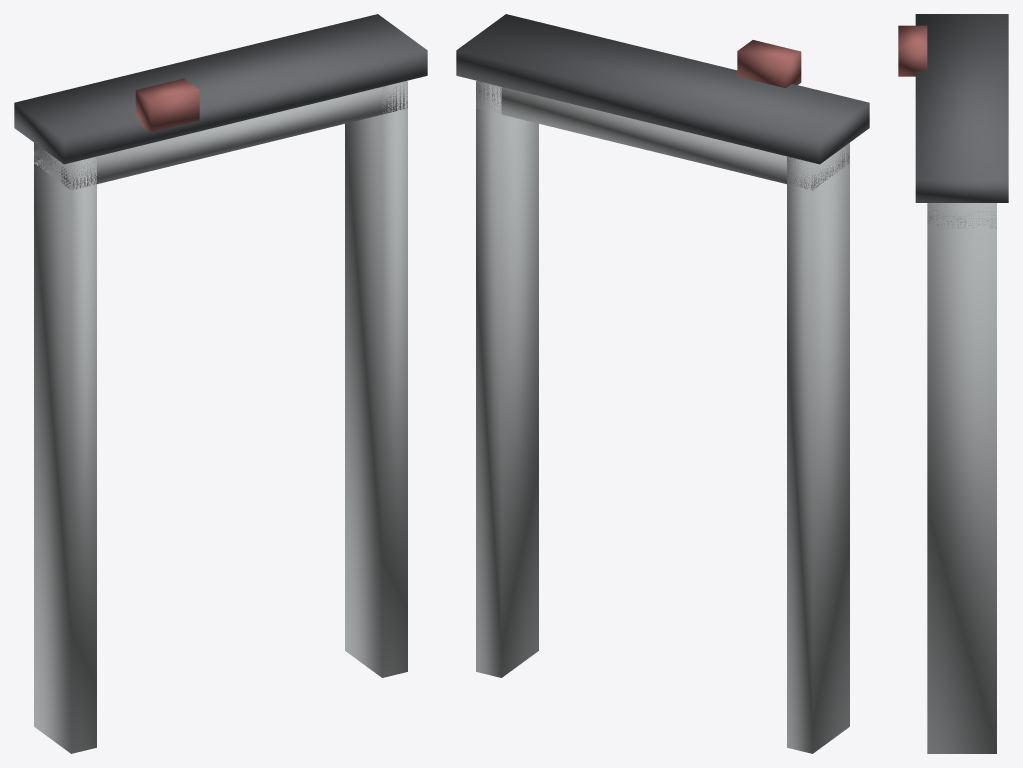
The model's file is doorway_fire_rated_w106_h200_d24.glb.
3 views of the same model, side by side, from view 1: azimuth 30°, elevation 25°; view 2: azimuth 150°, elevation 25°; view 3: azimuth 270°, elevation 25° (orthographic). The views are drawn at different scales.
Visible parts, largest first — view 1: world; view 2: world; view 3: world.
Boxes of the visible parts, x1=… form: world: x1=14, y1=14, x2=427, y2=753; world: x1=456, y1=14, x2=869, y2=753; world: x1=898, y1=14, x2=1008, y2=753.
Bounding box in the file's own units: 1.35 × 2.3 × 0.38.
